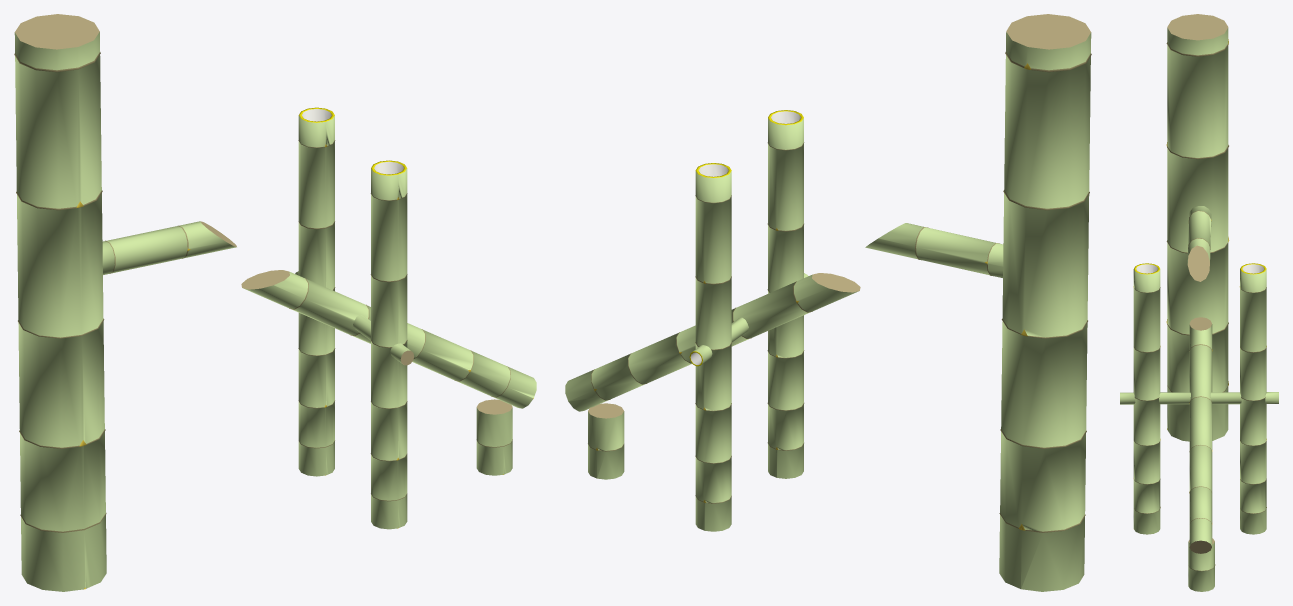
The model's file is bamboo.fbx.
The picture shows the model from 3 angles, left to right: view 1: azimuth 30°, elevation 25°; view 2: azimuth 150°, elevation 25°; view 3: azimuth 270°, elevation 25°; orthographic projection. The views are drawn at different scales.
Visible parts, largest first — view 1: bamboo_cut.003, bamboo_cut.001, bamboo_cut.004; view 2: bamboo_cut.003, bamboo_cut.001, bamboo_cut.004; view 3: bamboo_cut.003, bamboo_cut.001, bamboo_cut.004.
Boxes of the visible parts, x1=… form: bamboo_cut.003: x1=14, y1=14, x2=236, y2=591; bamboo_cut.001: x1=295, y1=107, x2=512, y2=529; bamboo_cut.004: x1=241, y1=270, x2=536, y2=408; bamboo_cut.003: x1=865, y1=14, x2=1091, y2=591; bamboo_cut.001: x1=588, y1=110, x2=808, y2=531; bamboo_cut.004: x1=565, y1=273, x2=860, y2=411; bamboo_cut.003: x1=1166, y1=14, x2=1229, y2=441; bamboo_cut.001: x1=1120, y1=263, x2=1278, y2=591; bamboo_cut.004: x1=1189, y1=317, x2=1212, y2=553.
Size of the model in its own units: 16470 by 16639 by 5970.
